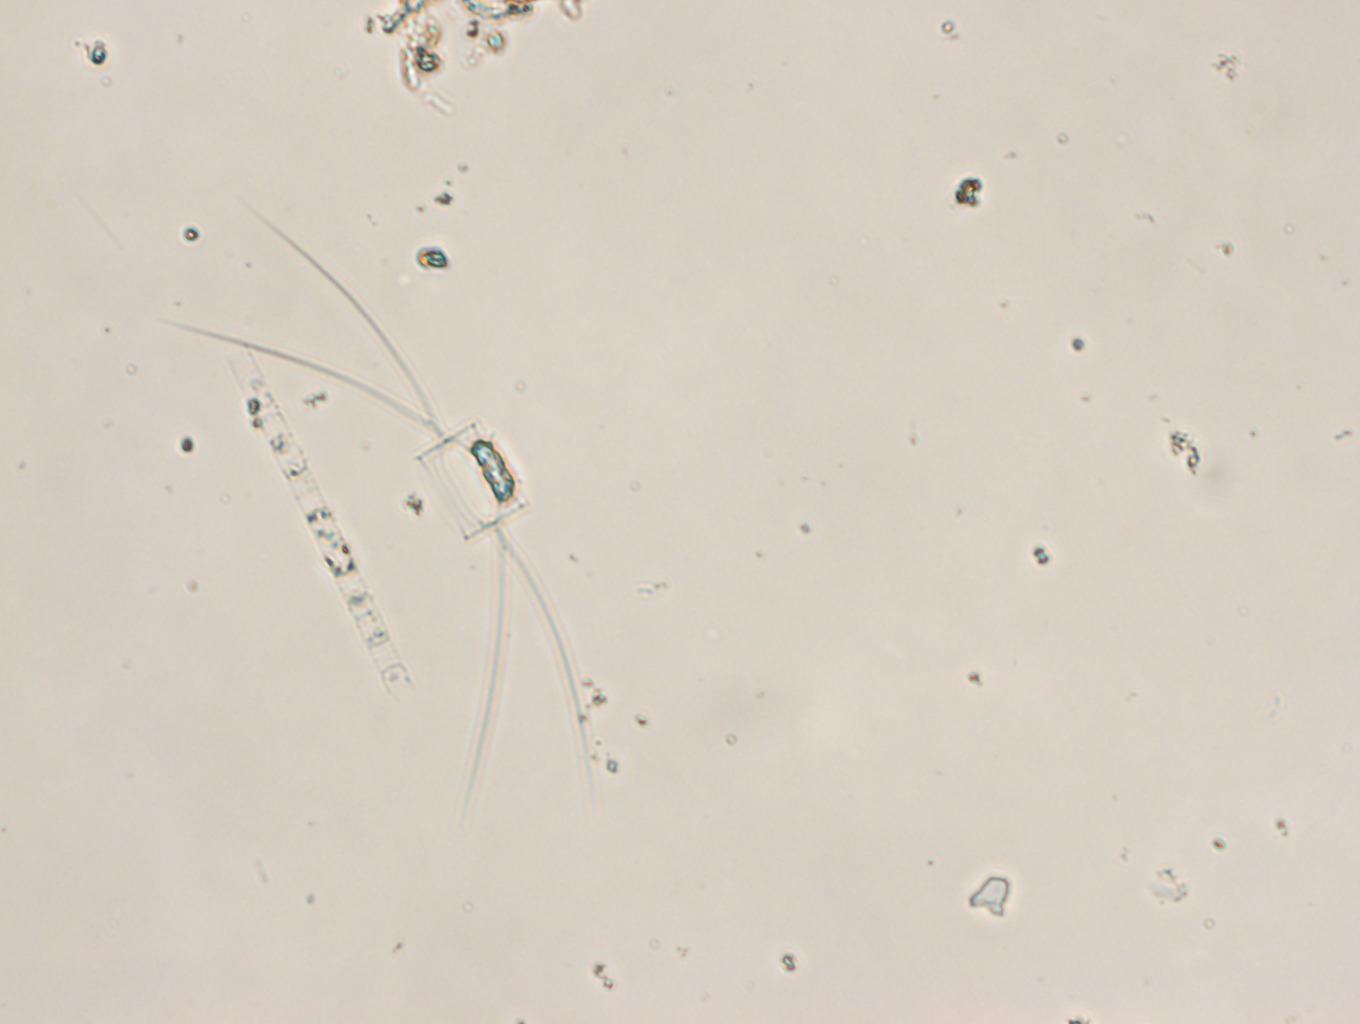chaetoceros: (152, 185, 598, 843)
skeletonema: (215, 339, 412, 706)
